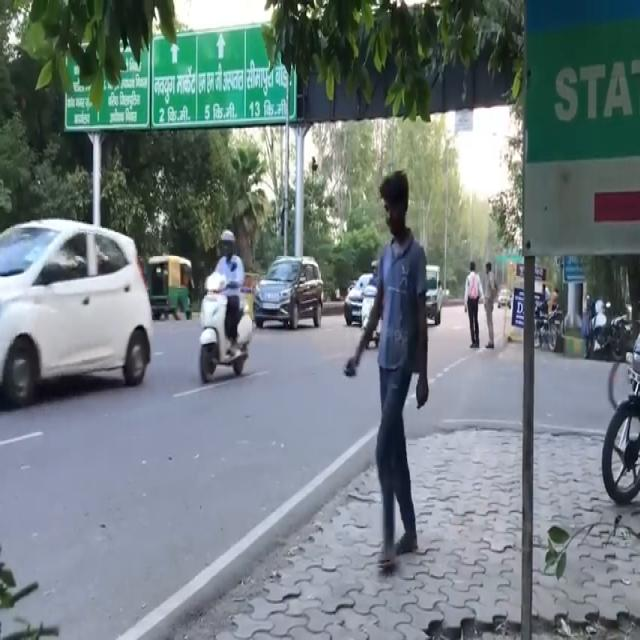MOTORCYCLE: (604, 297, 640, 511), (195, 278, 251, 388)
SED: (0, 225, 154, 408)
